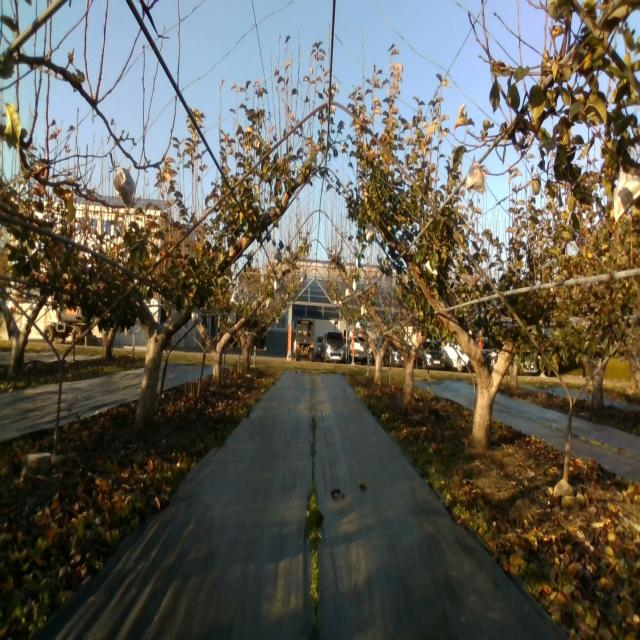pearbags: (611, 165, 640, 220), (113, 163, 135, 209), (466, 156, 486, 193), (365, 220, 377, 242)
